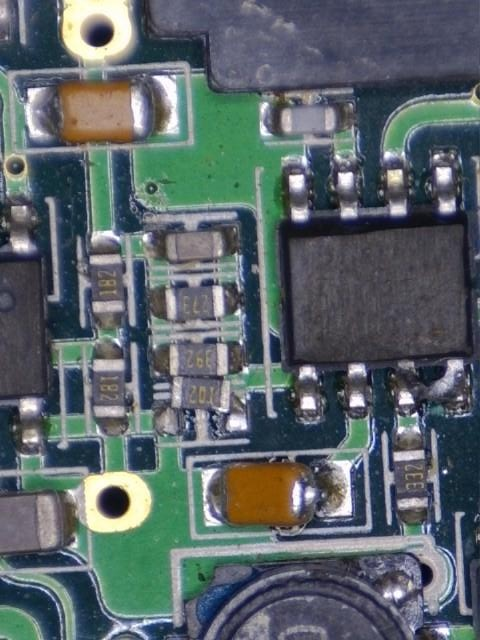pcb_defect: (201, 461, 352, 527), (154, 376, 248, 435), (398, 359, 473, 417)
